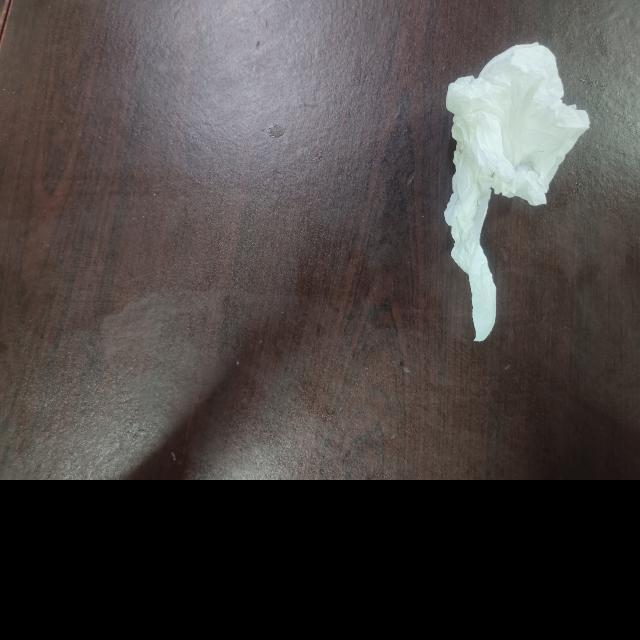kitchen paper: (435, 40, 595, 351)
